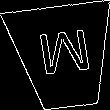M_S: (33, 29, 93, 85)
